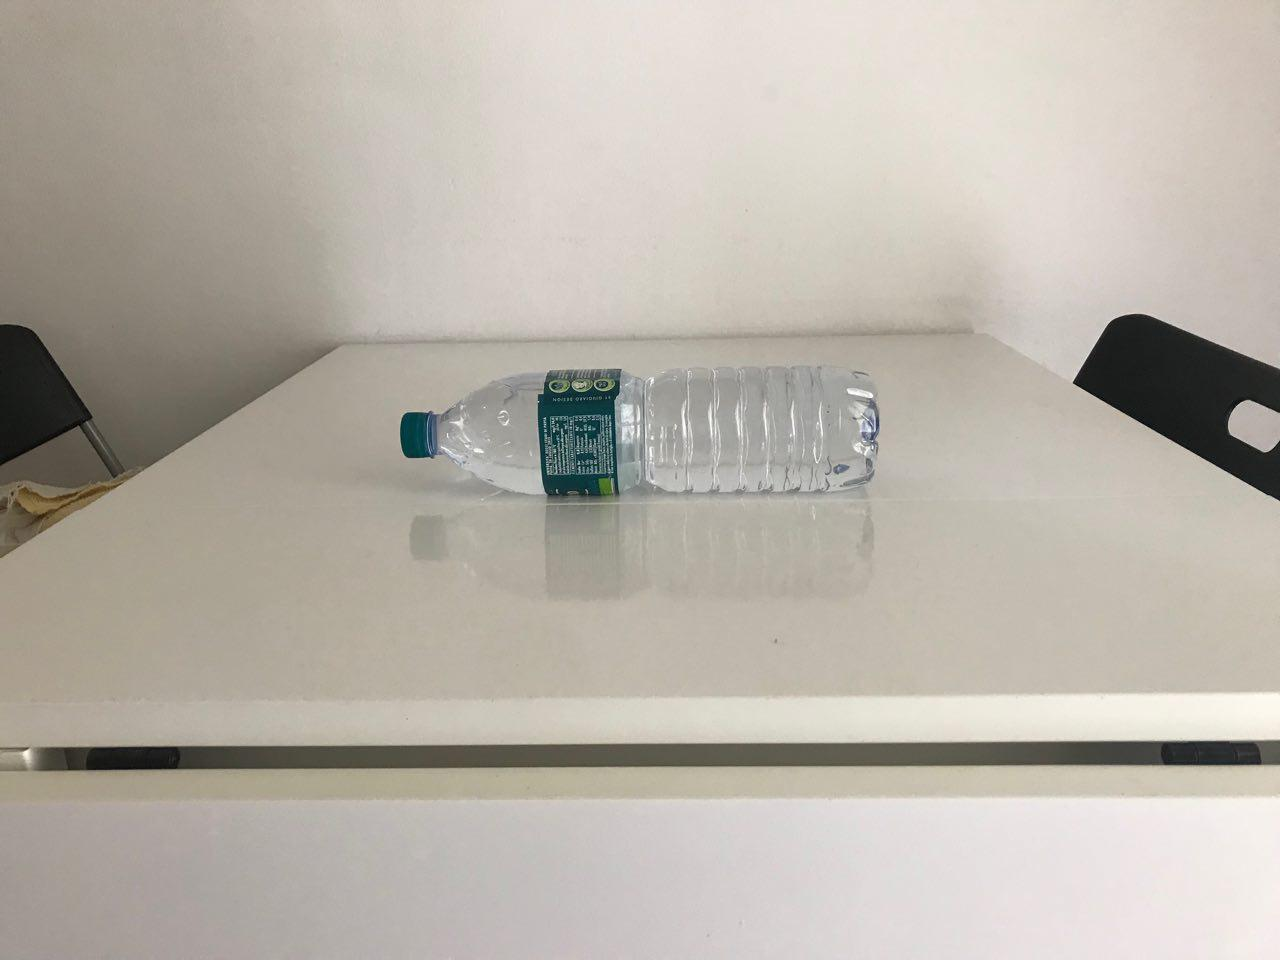san_bernardo: (398, 363, 882, 498)
